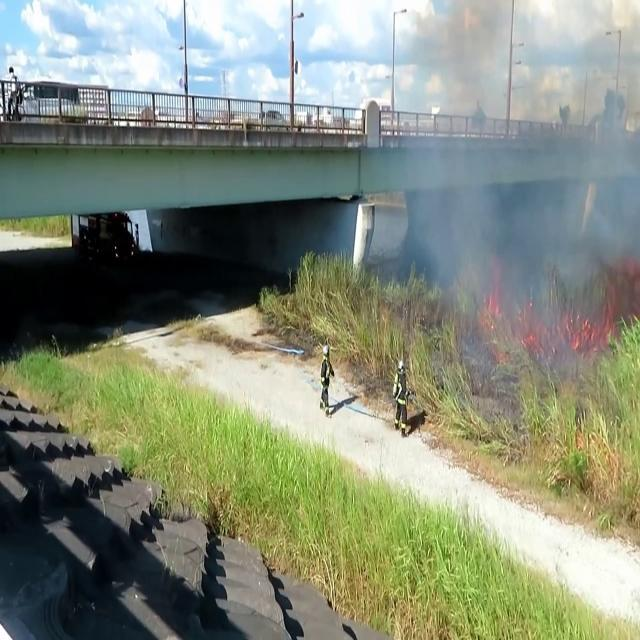Smoke: (398, 22, 640, 358)
